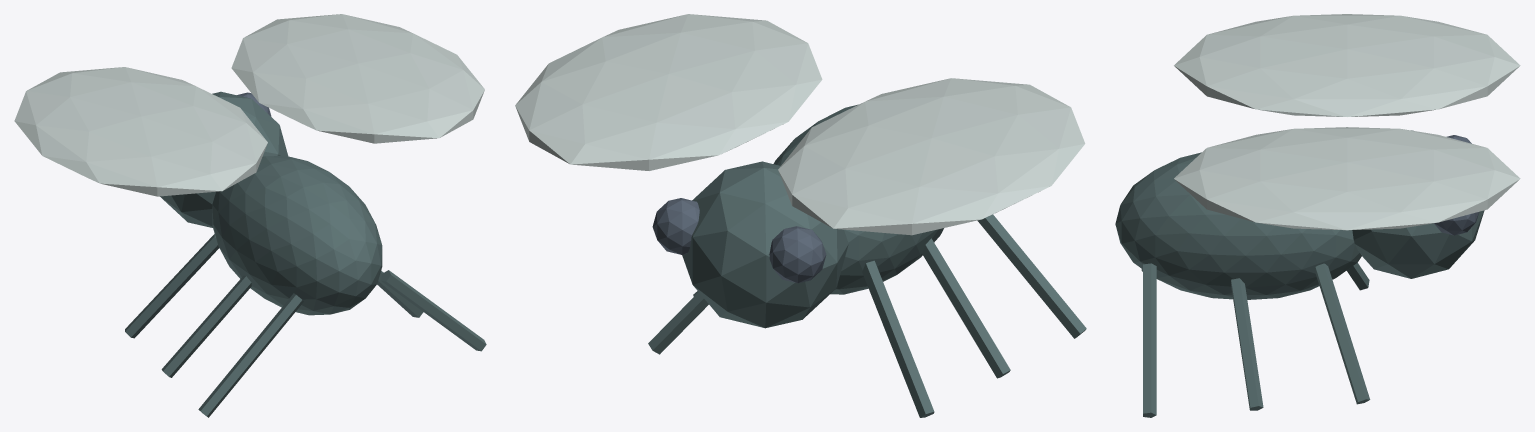
File: fly.glb
The picture shows the model from 3 angles, left to right: view 1: azimuth 30°, elevation 25°; view 2: azimuth 150°, elevation 25°; view 3: azimuth 270°, elevation 25°; orthographic projection. The views are drawn at different scales.
Visible parts, largest first — view 1: Wing_1_front, Wing_-1_front, Body, Head, Leg_-1_2, Leg_-1_0, Leg_-1_1, Leg_1_2, Leg_1_1; view 2: Wing_-1_front, Wing_1_front, Head, Body, Leg_-1_0, Leg_-1_1, Eye_-1, Leg_-1_2, Eye_1, Leg_1_0; view 3: Wing_1_front, Wing_-1_front, Body, Head, Leg_1_2, Leg_1_0, Leg_1_1, Eye_1.
Part boxes in pixels (x1=…): Wing_1_front: x1=231, y1=14, x2=484, y2=143; Wing_-1_front: x1=14, y1=67, x2=267, y2=196; Body: x1=212, y1=155, x2=382, y2=315; Head: x1=160, y1=91, x2=288, y2=227; Leg_-1_2: x1=198, y1=293, x2=303, y2=417; Leg_-1_0: x1=125, y1=234, x2=218, y2=338; Leg_-1_1: x1=161, y1=275, x2=251, y2=377; Leg_1_2: x1=381, y1=270, x2=486, y2=351; Leg_1_1: x1=377, y1=270, x2=423, y2=317; Wing_-1_front: x1=778, y1=78, x2=1085, y2=235; Wing_1_front: x1=515, y1=14, x2=822, y2=170; Head: x1=682, y1=161, x2=848, y2=328; Body: x1=773, y1=104, x2=943, y2=294; Leg_-1_0: x1=862, y1=260, x2=934, y2=417; Leg_-1_1: x1=922, y1=238, x2=1010, y2=378; Eye_-1: x1=769, y1=226, x2=826, y2=283; Leg_-1_2: x1=977, y1=214, x2=1086, y2=338; Eye_1: x1=652, y1=198, x2=699, y2=254; Leg_1_0: x1=648, y1=292, x2=708, y2=354; Wing_1_front: x1=1174, y1=127, x2=1520, y2=230; Wing_-1_front: x1=1174, y1=14, x2=1520, y2=116; Body: x1=1115, y1=152, x2=1361, y2=299; Head: x1=1352, y1=130, x2=1484, y2=278; Leg_1_2: x1=1143, y1=263, x2=1156, y2=417; Leg_1_0: x1=1315, y1=263, x2=1370, y2=404; Leg_1_1: x1=1231, y1=278, x2=1263, y2=410; Eye_1: x1=1434, y1=212, x2=1479, y2=235.
Size of the model in its own units: 0.956 by 0.4983 by 0.757.
